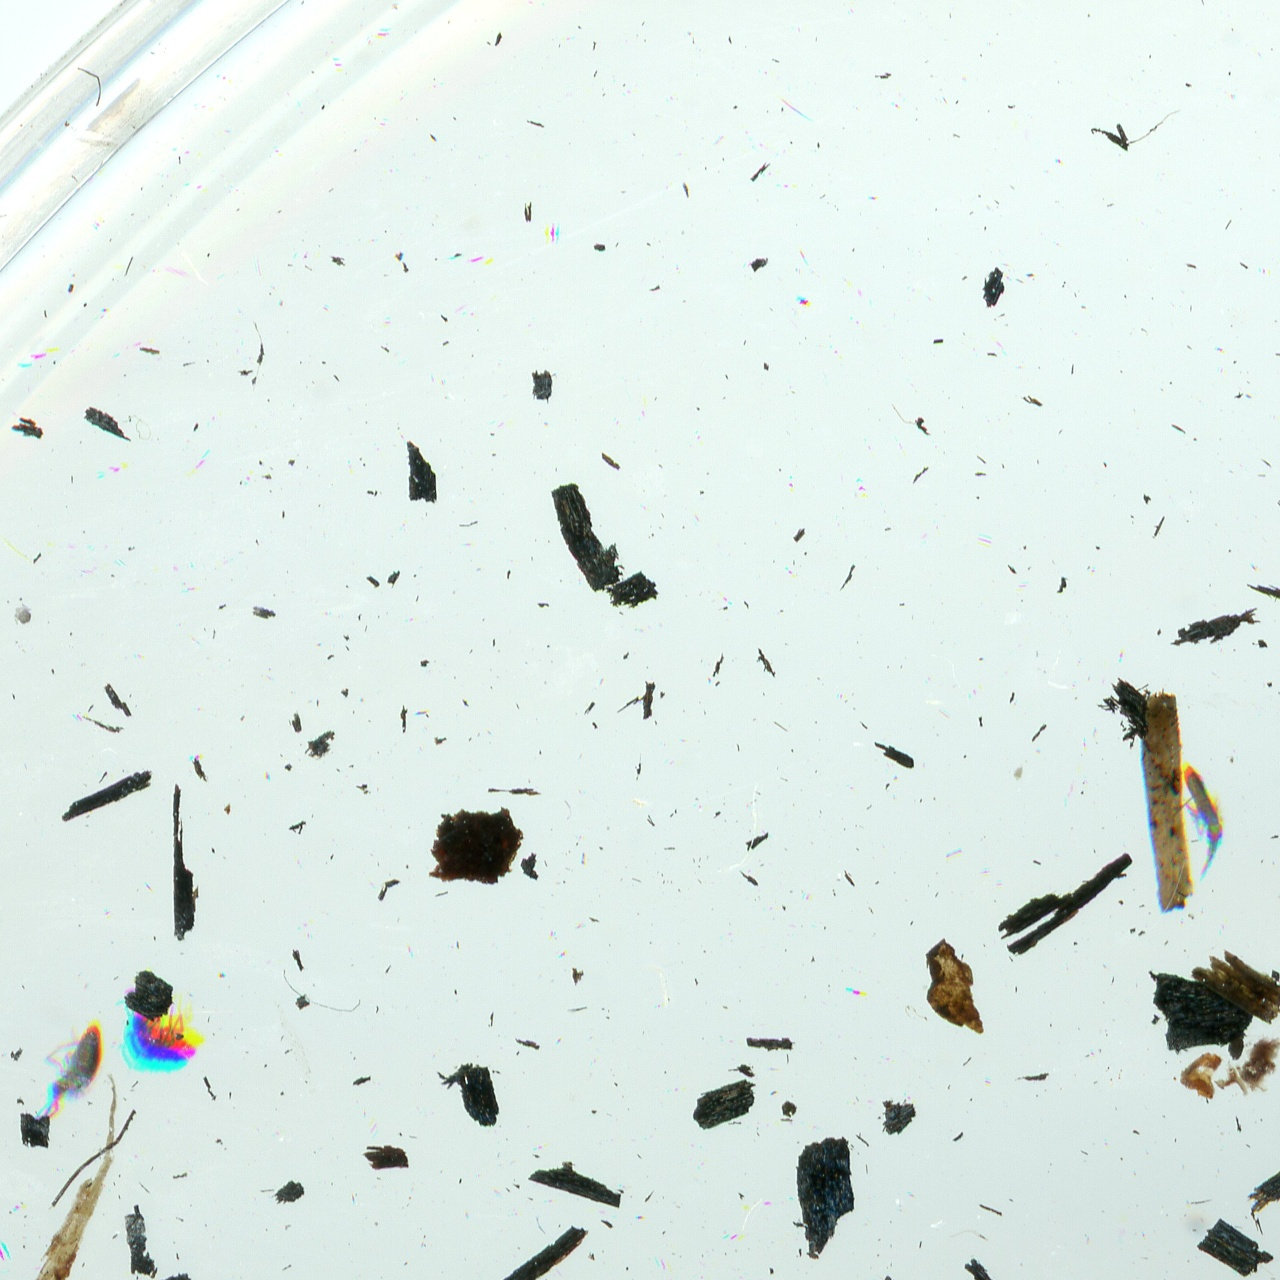arthropod: (1155, 744, 1242, 884), (30, 1010, 114, 1129), (116, 979, 211, 1076)
